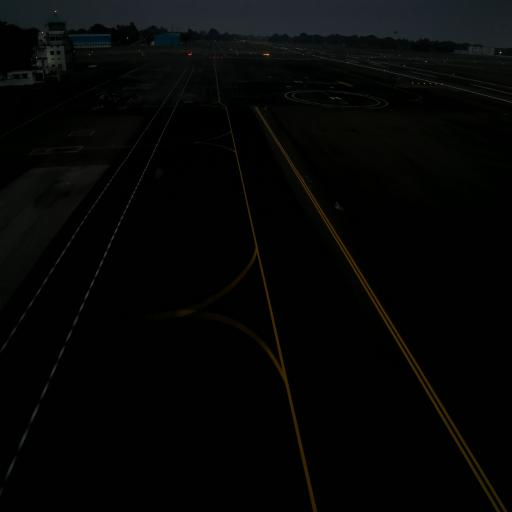on: (334, 200, 340, 210)
